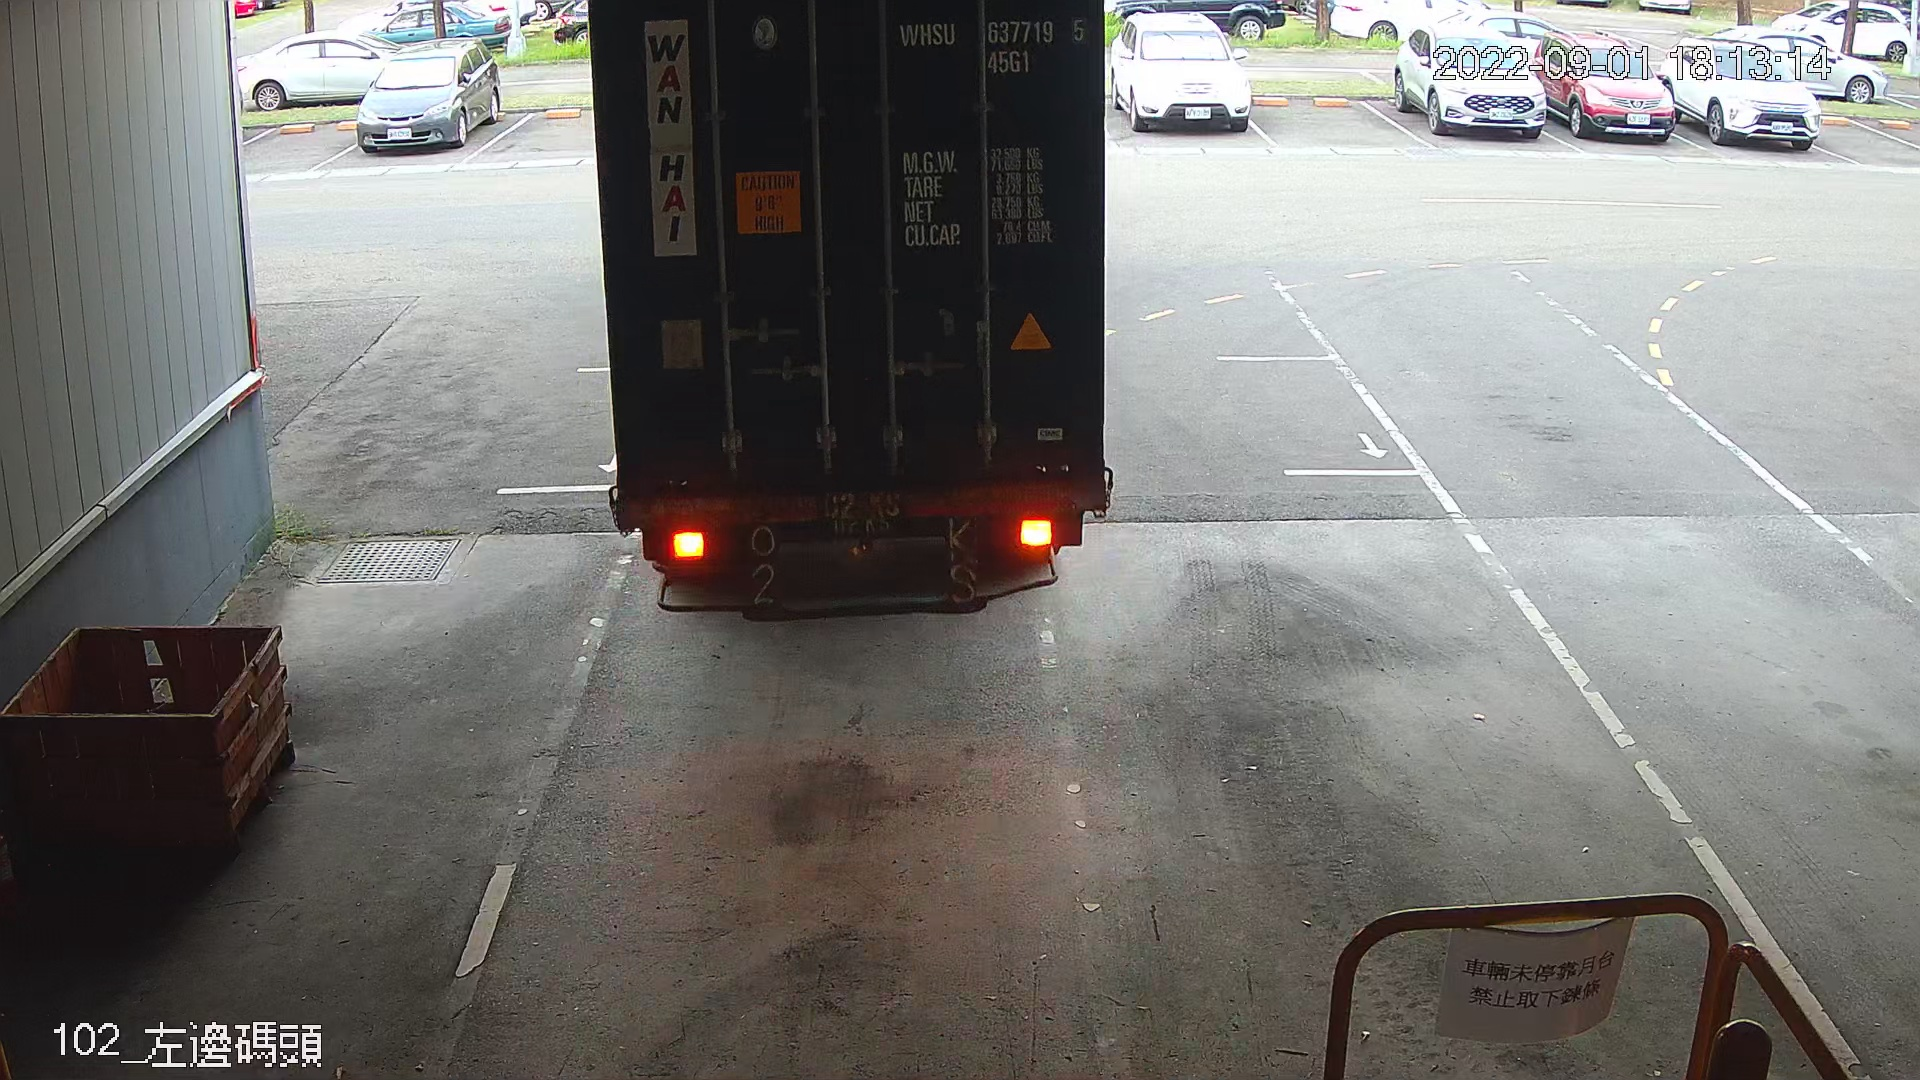container: (891, 11, 1095, 83)
